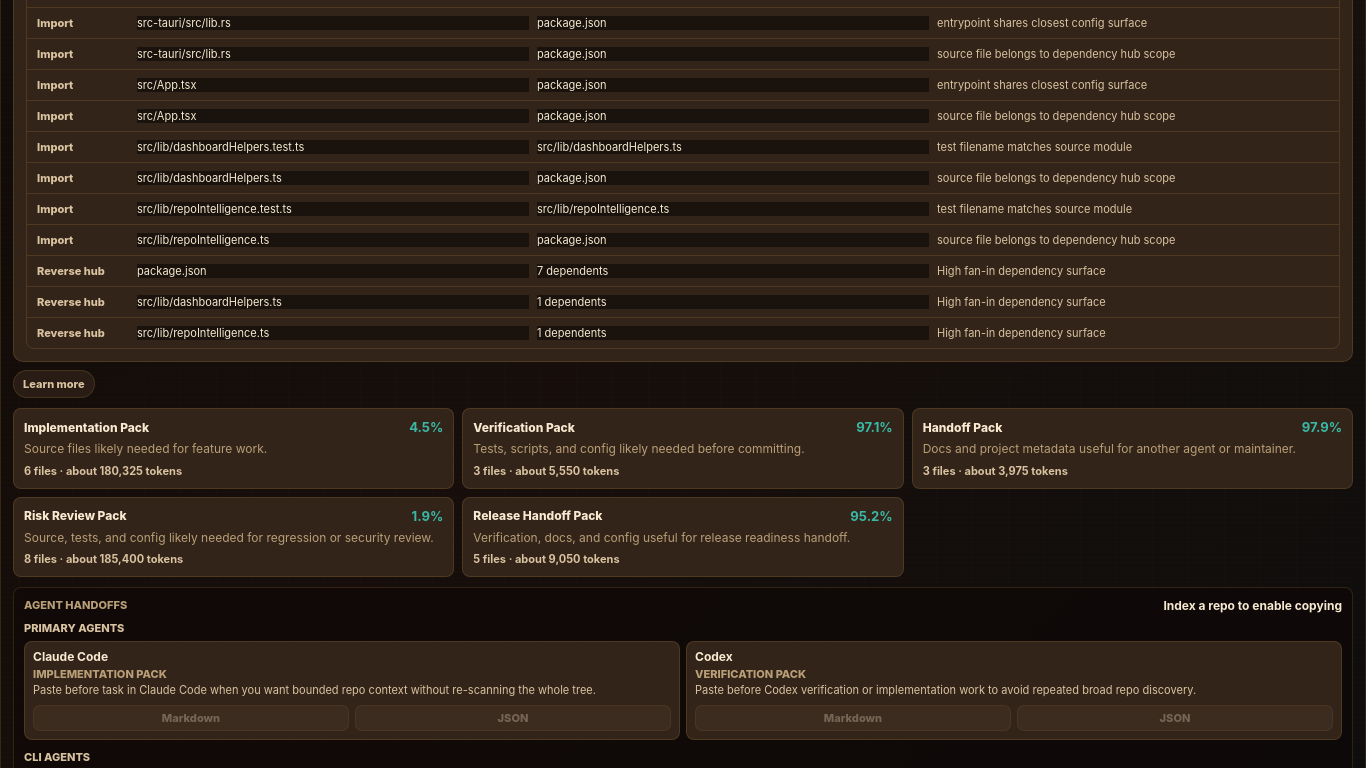
Test case: RepoIntelligencePreview progressive disclosure › keeps graph summary visible while graph diagnostics are collapsed
(page scrolled)
Check: the text "Agent graph signal" is not shown
Step 1. Click the button "Learn more" → (54, 384), box [13, 370, 95, 398]
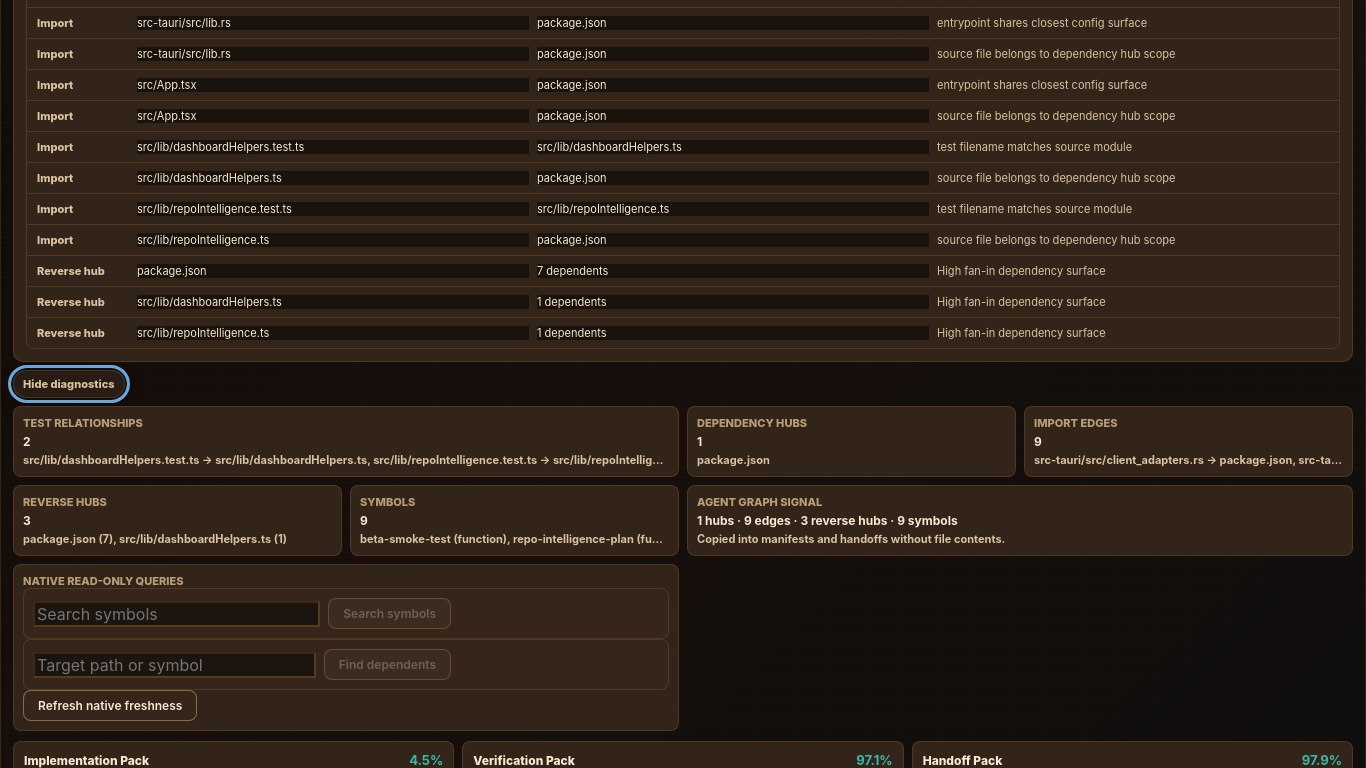
Check: the button "Hide diagnostics" is expanded, box [13, 370, 124, 398]
Check: the text "Agent graph signal" is shown, box [697, 495, 822, 509]
